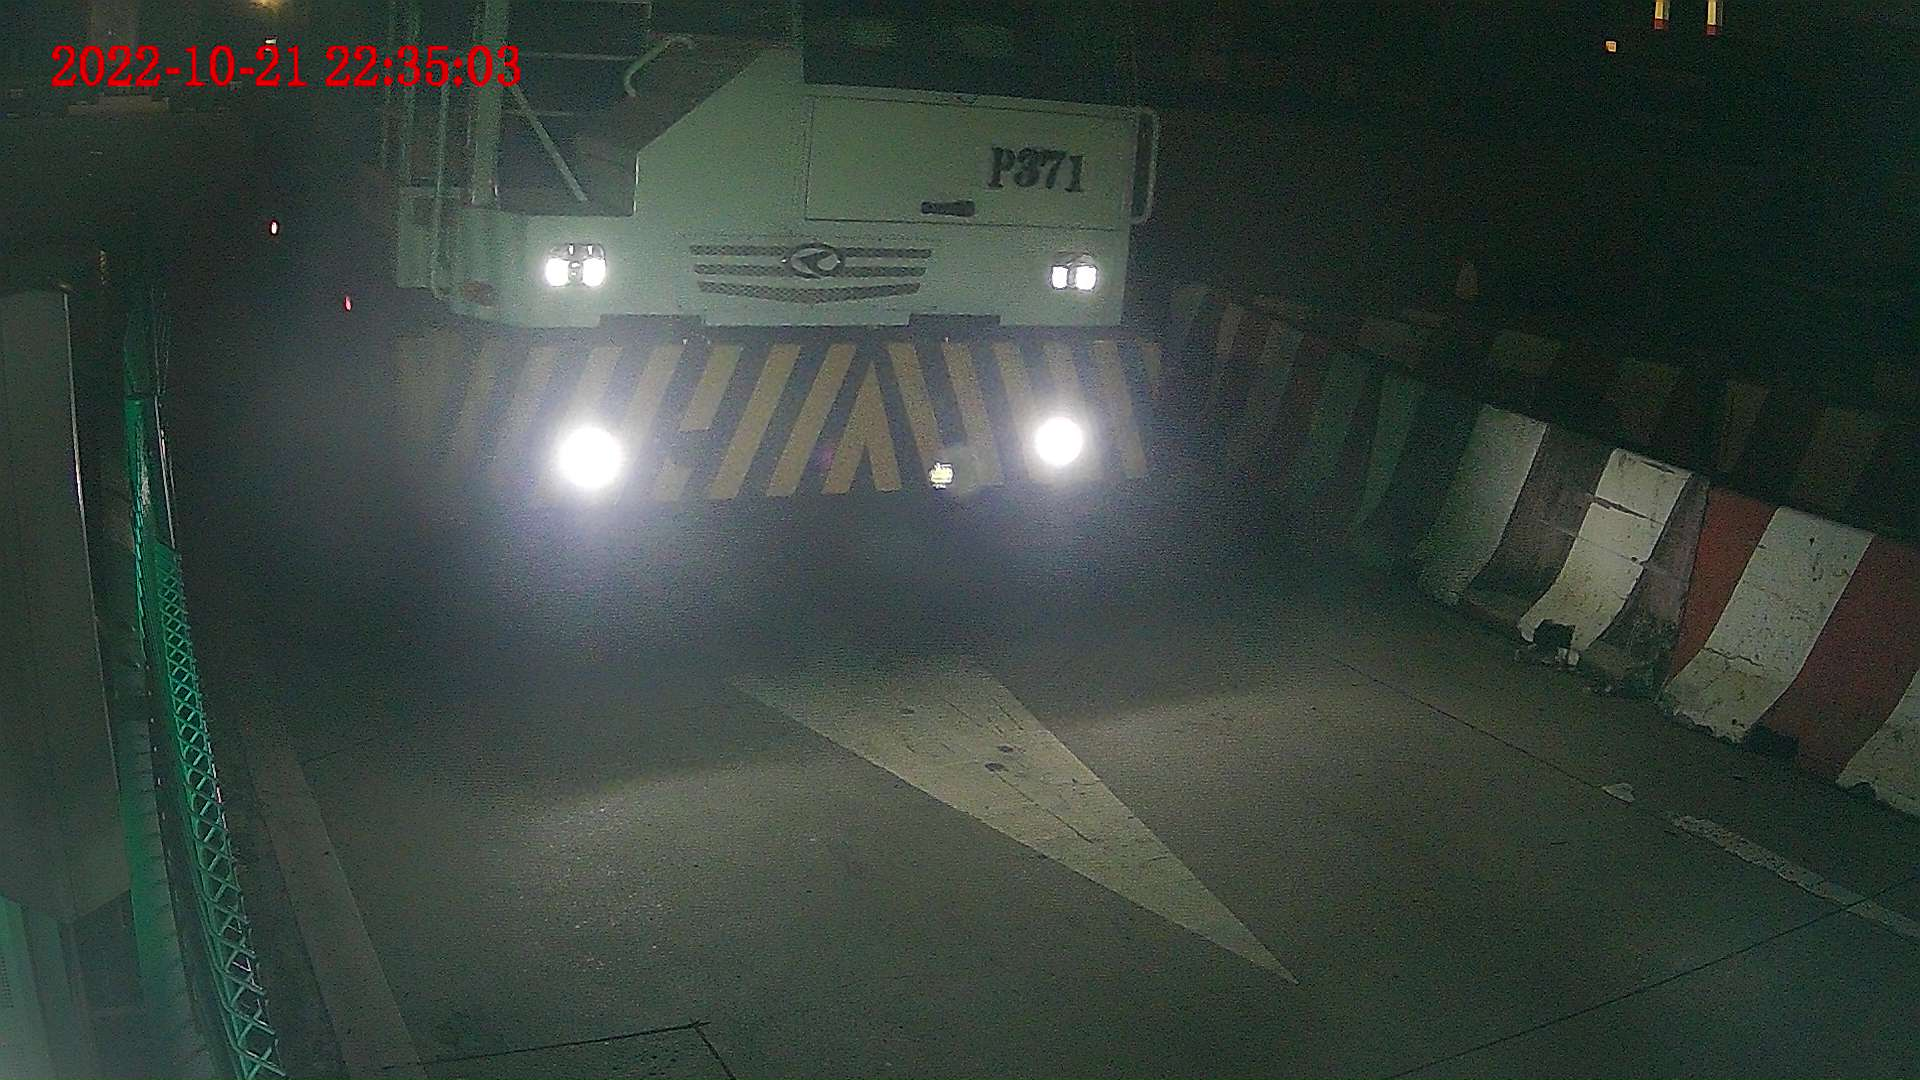head: (331, 1, 1162, 570)
